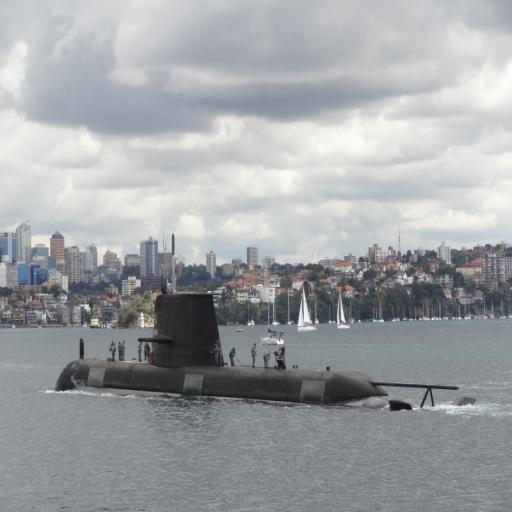submarine: (50, 294, 474, 413)
